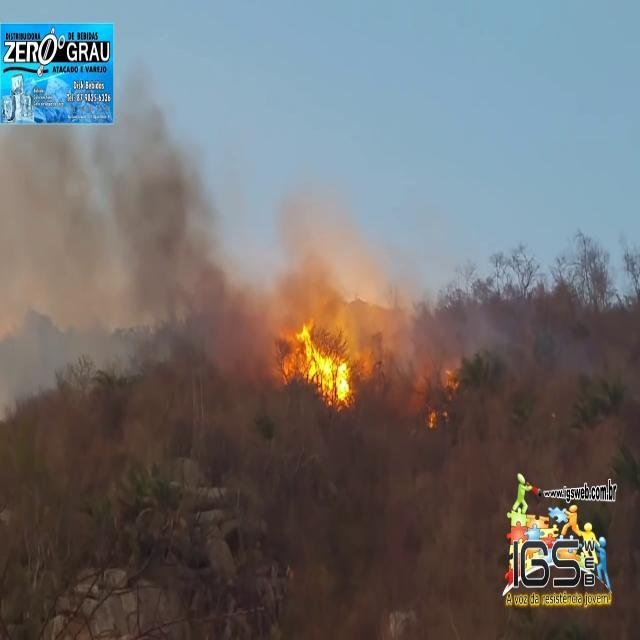Fire: (280, 332, 354, 404), (442, 369, 458, 392), (427, 402, 439, 428)
